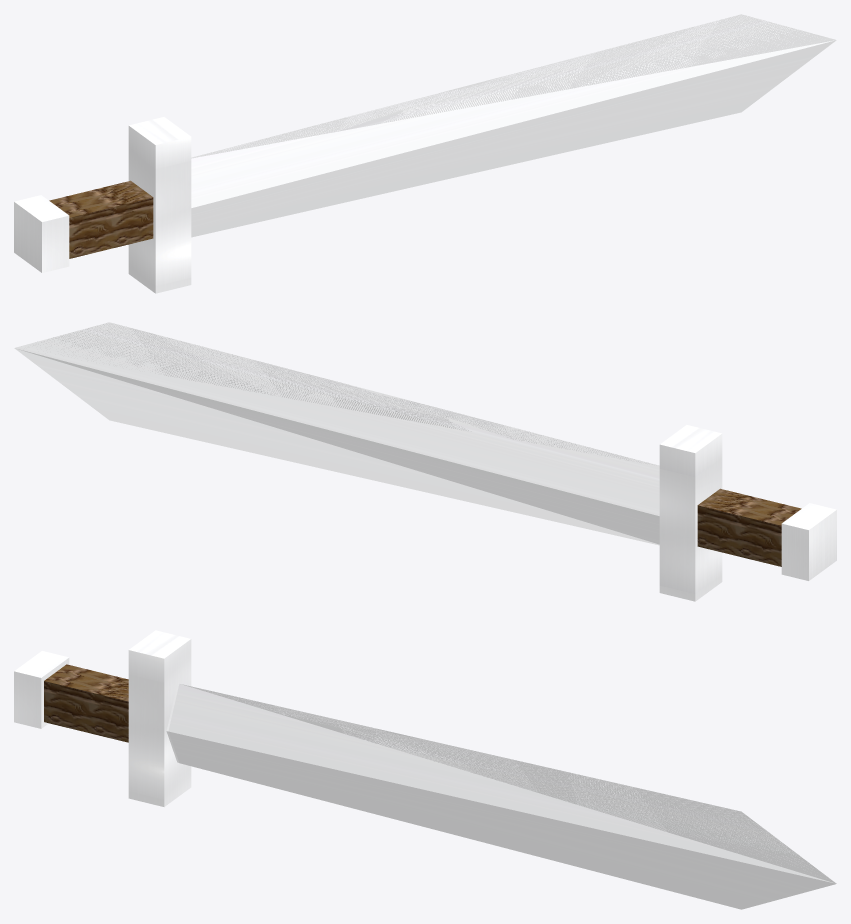
File: sword.gltf
3 views of the same model, one above another, from view 1: azimuth 30°, elevation 25°; view 2: azimuth 150°, elevation 25°; view 3: azimuth 330°, elevation 25° (orthographic).
Parts seen in each view (by area): view 1: Sword, Cube, Cube.001, Cube.002; view 2: Sword, Cube, Cube.001, Cube.002; view 3: Sword, Cube, Cube.001, Cube.002.
Part boxes in pixels (bbox=[...]): Sword: bbox=[191, 14, 836, 237]; Cube: bbox=[128, 117, 191, 293]; Cube.001: bbox=[49, 180, 153, 258]; Cube.002: bbox=[14, 195, 69, 272]; Sword: bbox=[14, 322, 659, 545]; Cube: bbox=[659, 425, 722, 601]; Cube.001: bbox=[697, 488, 801, 566]; Cube.002: bbox=[781, 503, 836, 580]; Sword: bbox=[166, 683, 836, 909]; Cube: bbox=[128, 630, 191, 806]; Cube.001: bbox=[44, 664, 128, 742]; Cube.002: bbox=[14, 651, 69, 728].
Size of the model in its own units: 5.18 by 0.9094 by 0.3122.
Materials: 3 (3 with a texture image).
